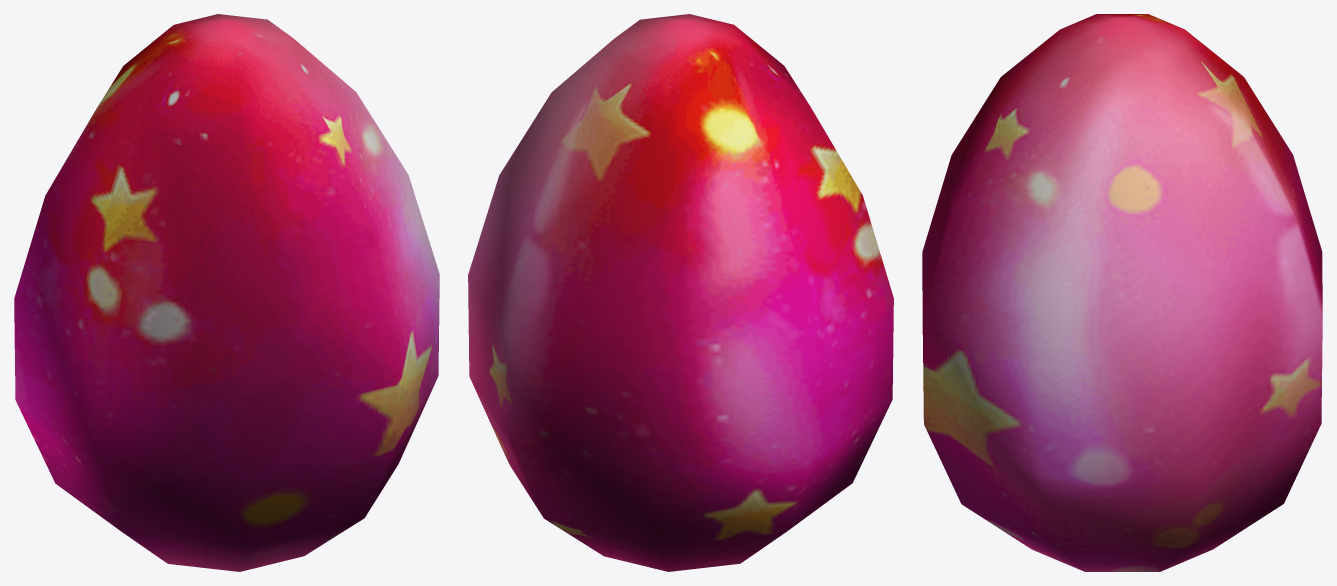
File: dj_caidan.fbx
The picture shows the model from 3 angles, left to right: view 1: azimuth 30°, elevation 25°; view 2: azimuth 150°, elevation 25°; view 3: azimuth 270°, elevation 25°; orthographic projection.
Visible parts, largest first — view 1: dj_caidan; view 2: dj_caidan; view 3: dj_caidan.
Part boxes in pixels (x1,y1,x2,y2): dj_caidan: (14, 14, 439, 571); dj_caidan: (468, 14, 893, 571); dj_caidan: (922, 14, 1322, 571).
Size of the model in its own units: 138 by 203 by 138.
